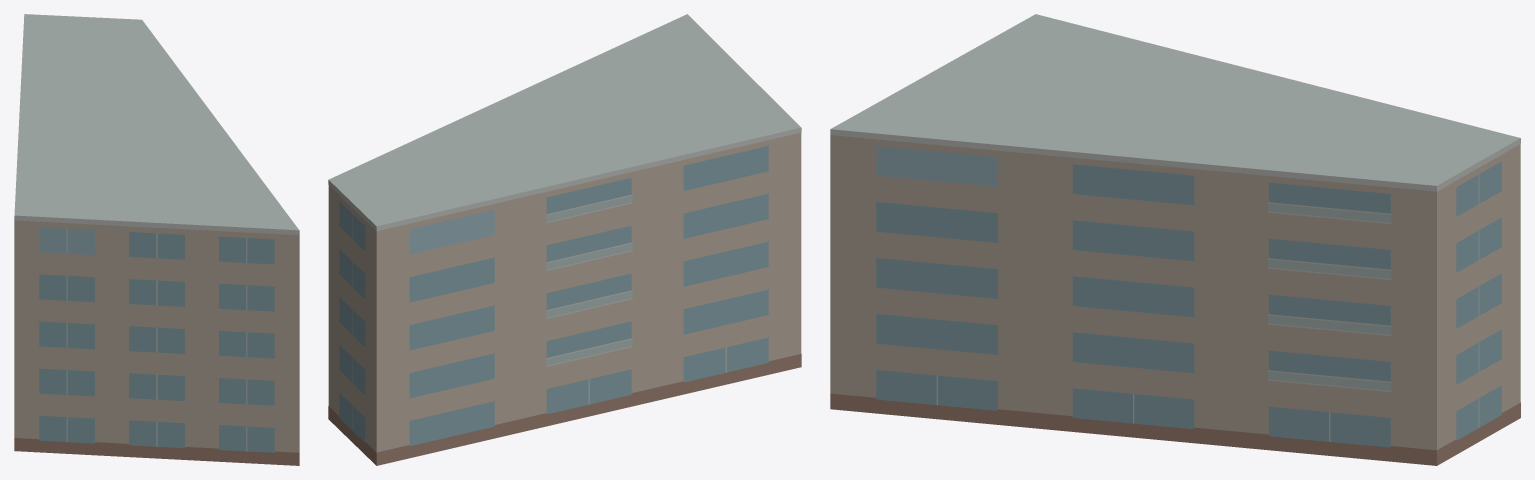
Rendered from survey-upis-32659186.glb.
The picture shows the model from 3 angles, left to right: view 1: azimuth 30°, elevation 25°; view 2: azimuth 150°, elevation 25°; view 3: azimuth 270°, elevation 25°; orthographic projection. The views are drawn at different scales.
Parts seen in each view (by area): view 1: survey-upis-32659186.tmp; view 2: survey-upis-32659186.tmp; view 3: survey-upis-32659186.tmp.
Part boxes in pixels (left/top/right/bottom): survey-upis-32659186.tmp: left=14, top=14, right=299, bottom=465; survey-upis-32659186.tmp: left=328, top=14, right=801, bottom=465; survey-upis-32659186.tmp: left=830, top=14, right=1520, bottom=465.
Bounding box in the file's own units: 15.55 × 11.8 × 26.38.
